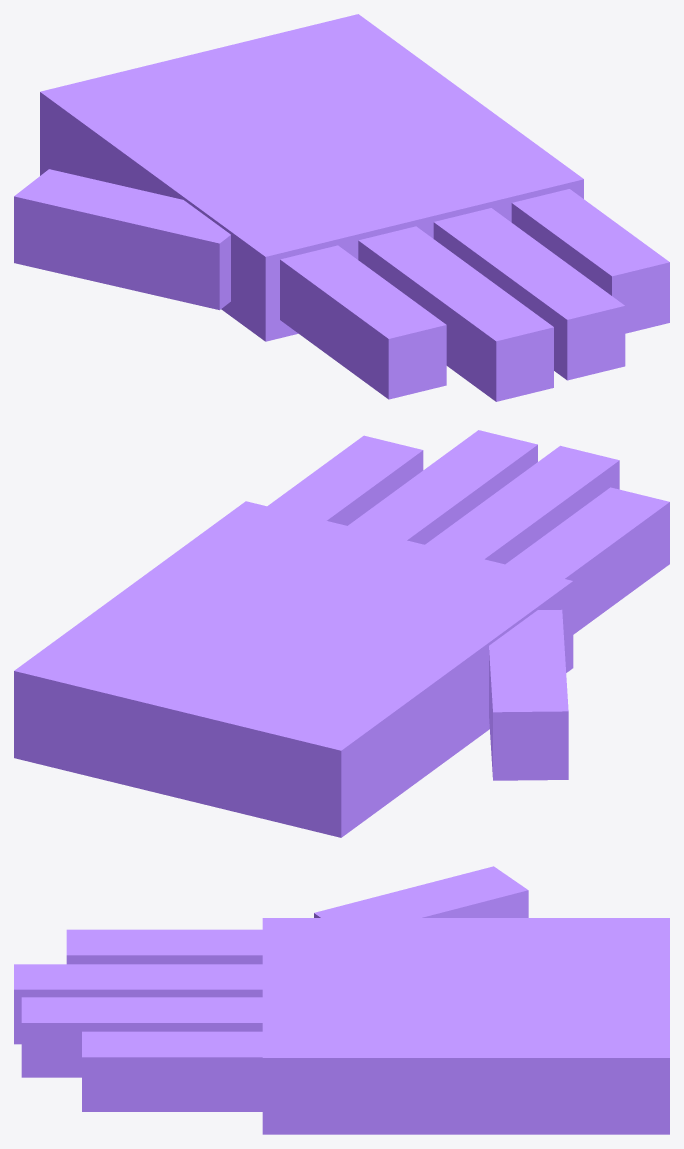
The model's file is hand.glb.
3 views of the same model, one above another, from view 1: azimuth 30°, elevation 25°; view 2: azimuth 150°, elevation 25°; view 3: azimuth 270°, elevation 25° (orthographic). The views are drawn at different scales.
Parts seen in each view (by area): view 1: Hand; view 2: Hand; view 3: Hand.
Part boxes in pixels (x1=…): Hand: x1=14, y1=14, x2=669, y2=401; Hand: x1=14, y1=430, x2=669, y2=837; Hand: x1=14, y1=866, x2=669, y2=1134.
Size of the model in its own units: 1.53 by 0.28 by 2.18.
